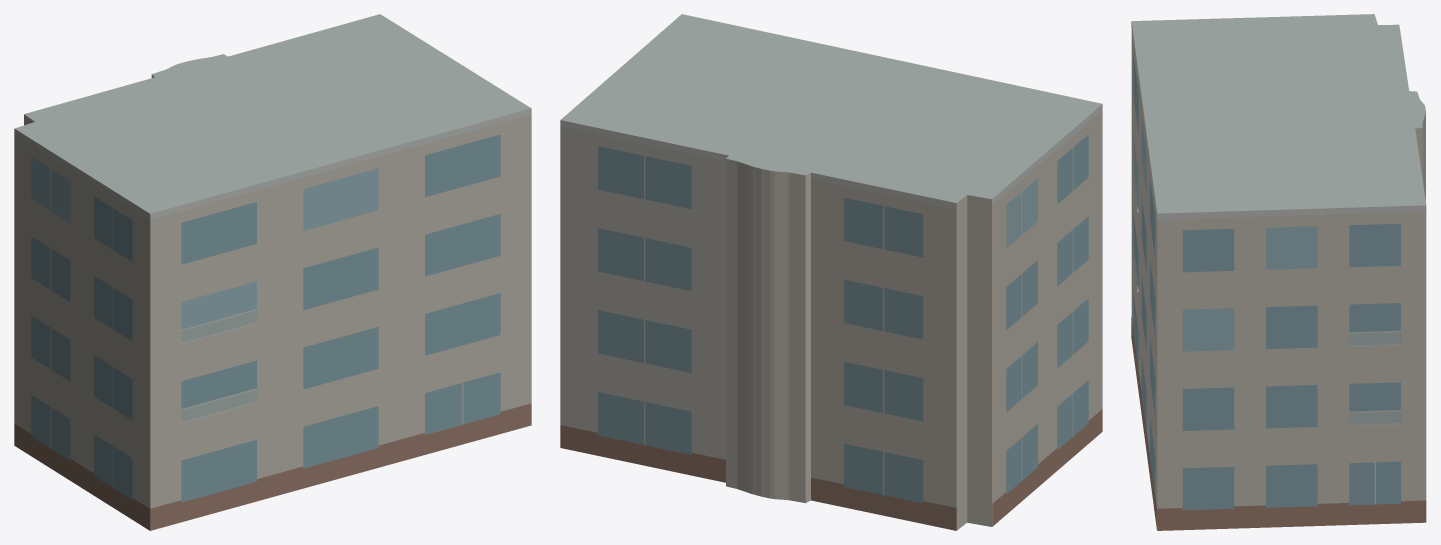
The model's file is survey-upis-32631467.glb.
The picture shows the model from 3 angles, left to right: view 1: azimuth 30°, elevation 25°; view 2: azimuth 150°, elevation 25°; view 3: azimuth 270°, elevation 25°; orthographic projection. The views are drawn at different scales.
Parts seen in each view (by area): view 1: survey-upis-32631467.tmp; view 2: survey-upis-32631467.tmp; view 3: survey-upis-32631467.tmp.
Part boxes in pixels (x1,y1,x2,y2): survey-upis-32631467.tmp: (14,14,531,530); survey-upis-32631467.tmp: (560,14,1102,530); survey-upis-32631467.tmp: (1131,14,1426,530).
Bounding box in the file's own units: 17.27 × 12.8 × 10.79.
